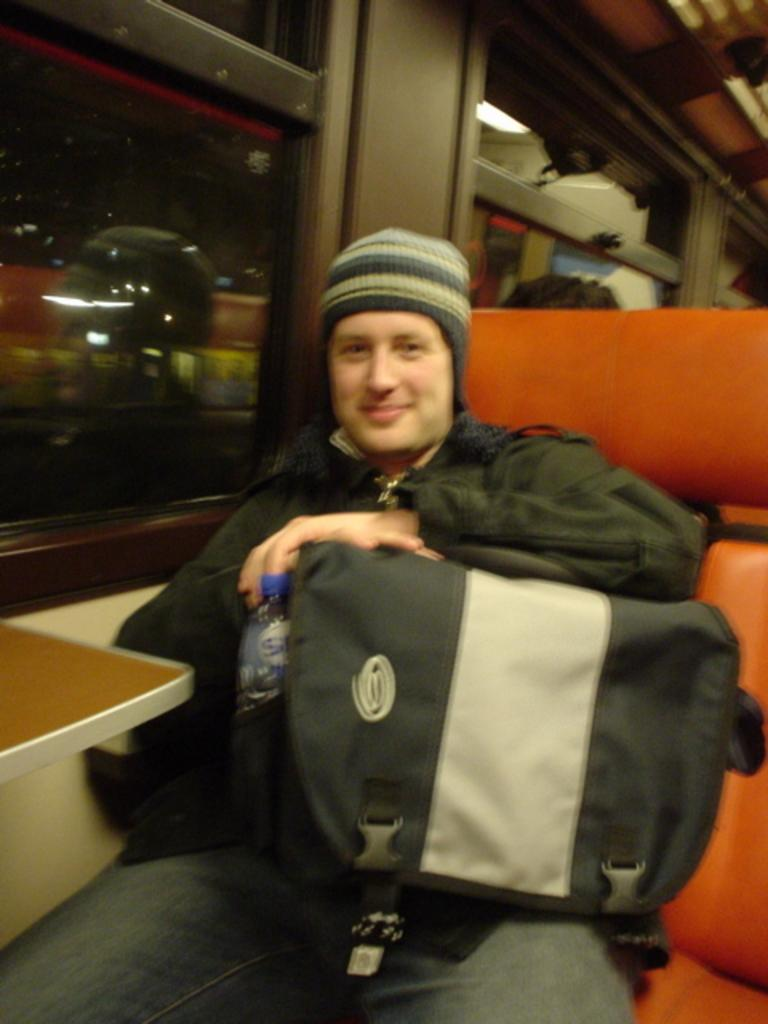Luggage-and-bags: (176, 499, 725, 950)
